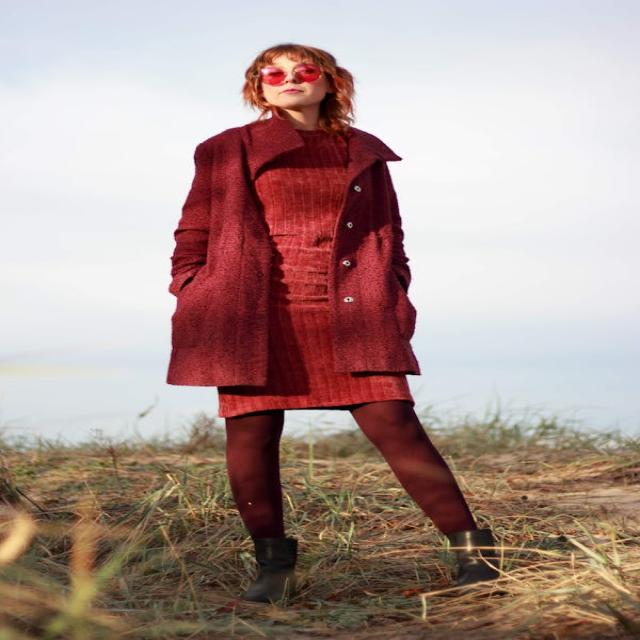Real human 2: (163, 32, 512, 604)
